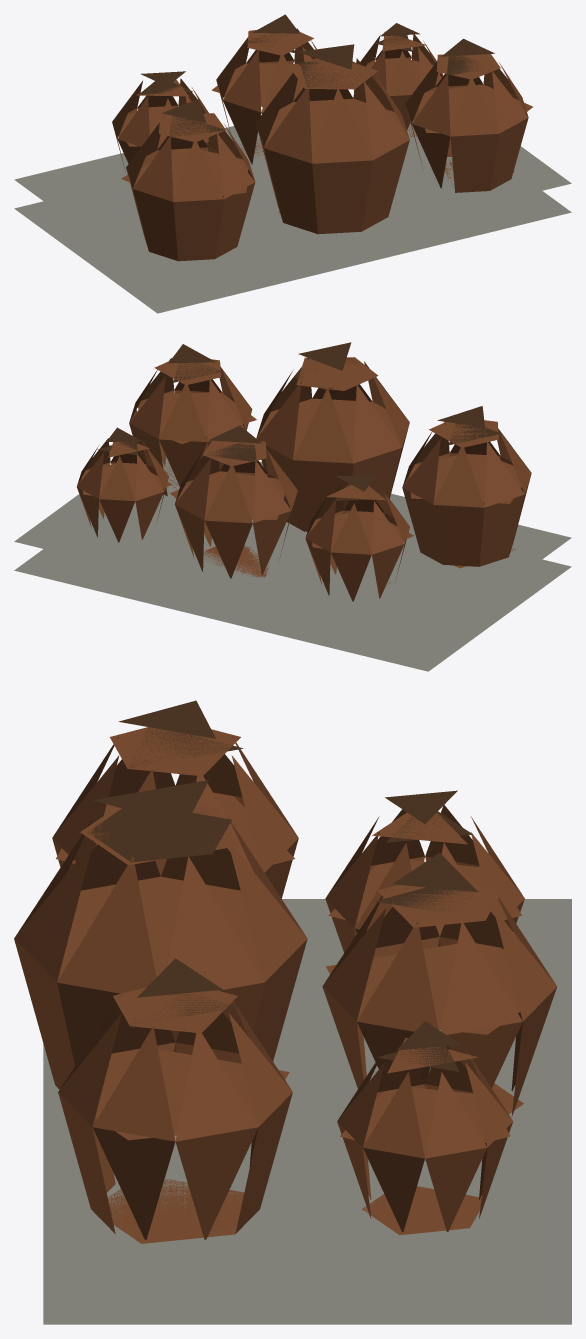
File: prop_jangdok_lod1.glb
3 views of the same model, one above another, from view 1: azimuth 30°, elevation 25°; view 2: azimuth 150°, elevation 25°; view 3: azimuth 270°, elevation 25° (orthographic). The views are drawn at different scales.
Parts seen in each view (by area): view 1: prop_jangdok_lod1; view 2: prop_jangdok_lod1; view 3: prop_jangdok_lod1.
Part boxes in pixels (left/top/right/bottom): prop_jangdok_lod1: left=14, top=14, right=571, bottom=313; prop_jangdok_lod1: left=14, top=342, right=571, bottom=671; prop_jangdok_lod1: left=14, top=700, right=571, bottom=1324.
Size of the model in its own units: 3 by 1.27 by 1.9.
